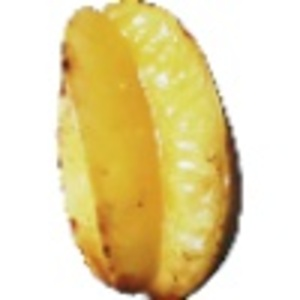carambola: (54, 1, 243, 300)
